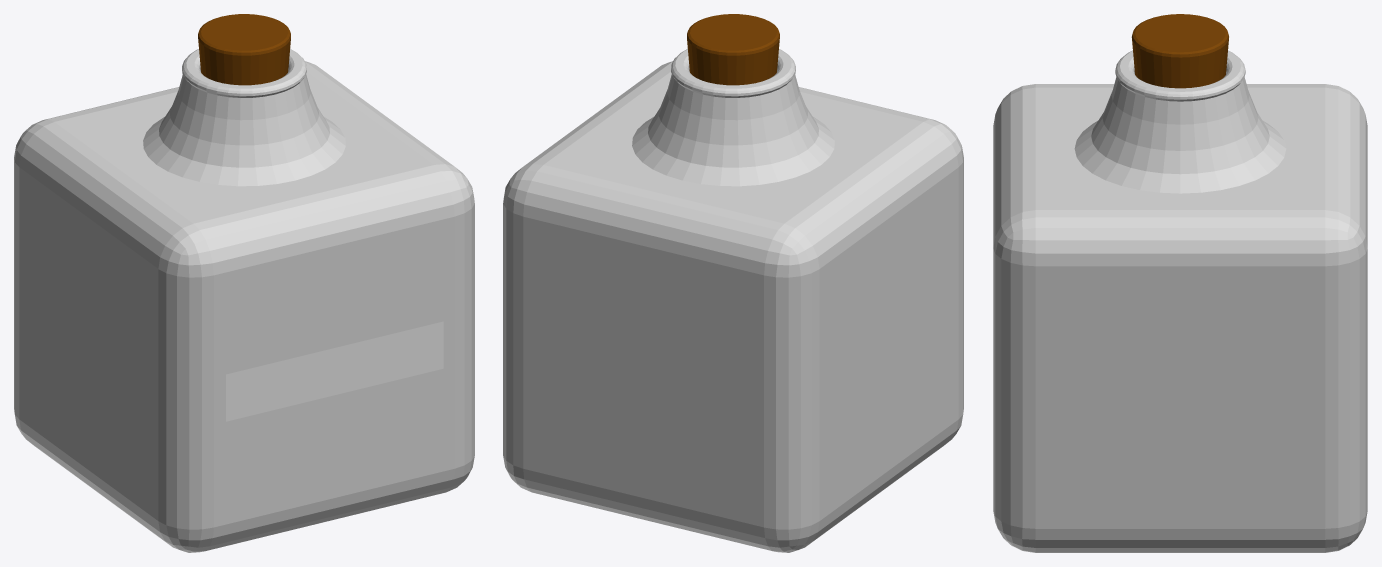
File: Jarjar.fbx
The picture shows the model from 3 angles, left to right: view 1: azimuth 30°, elevation 25°; view 2: azimuth 150°, elevation 25°; view 3: azimuth 270°, elevation 25°; orthographic projection. The views are drawn at different scales.
Parts seen in each view (by area): view 1: Cube, Plane, Cylinder; view 2: Cube, Cylinder; view 3: Cube, Cylinder.
Boxes of the visible parts, x1=… form: Cube: x1=14, y1=49, x2=474, y2=552; Plane: x1=226, y1=321, x2=443, y2=421; Cylinder: x1=198, y1=14, x2=290, y2=85; Cube: x1=503, y1=49, x2=963, y2=552; Cylinder: x1=687, y1=14, x2=779, y2=85; Cube: x1=993, y1=50, x2=1367, y2=552; Cylinder: x1=1131, y1=14, x2=1228, y2=88.
Bounding box in the file's own units: 378 × 506 × 379.
